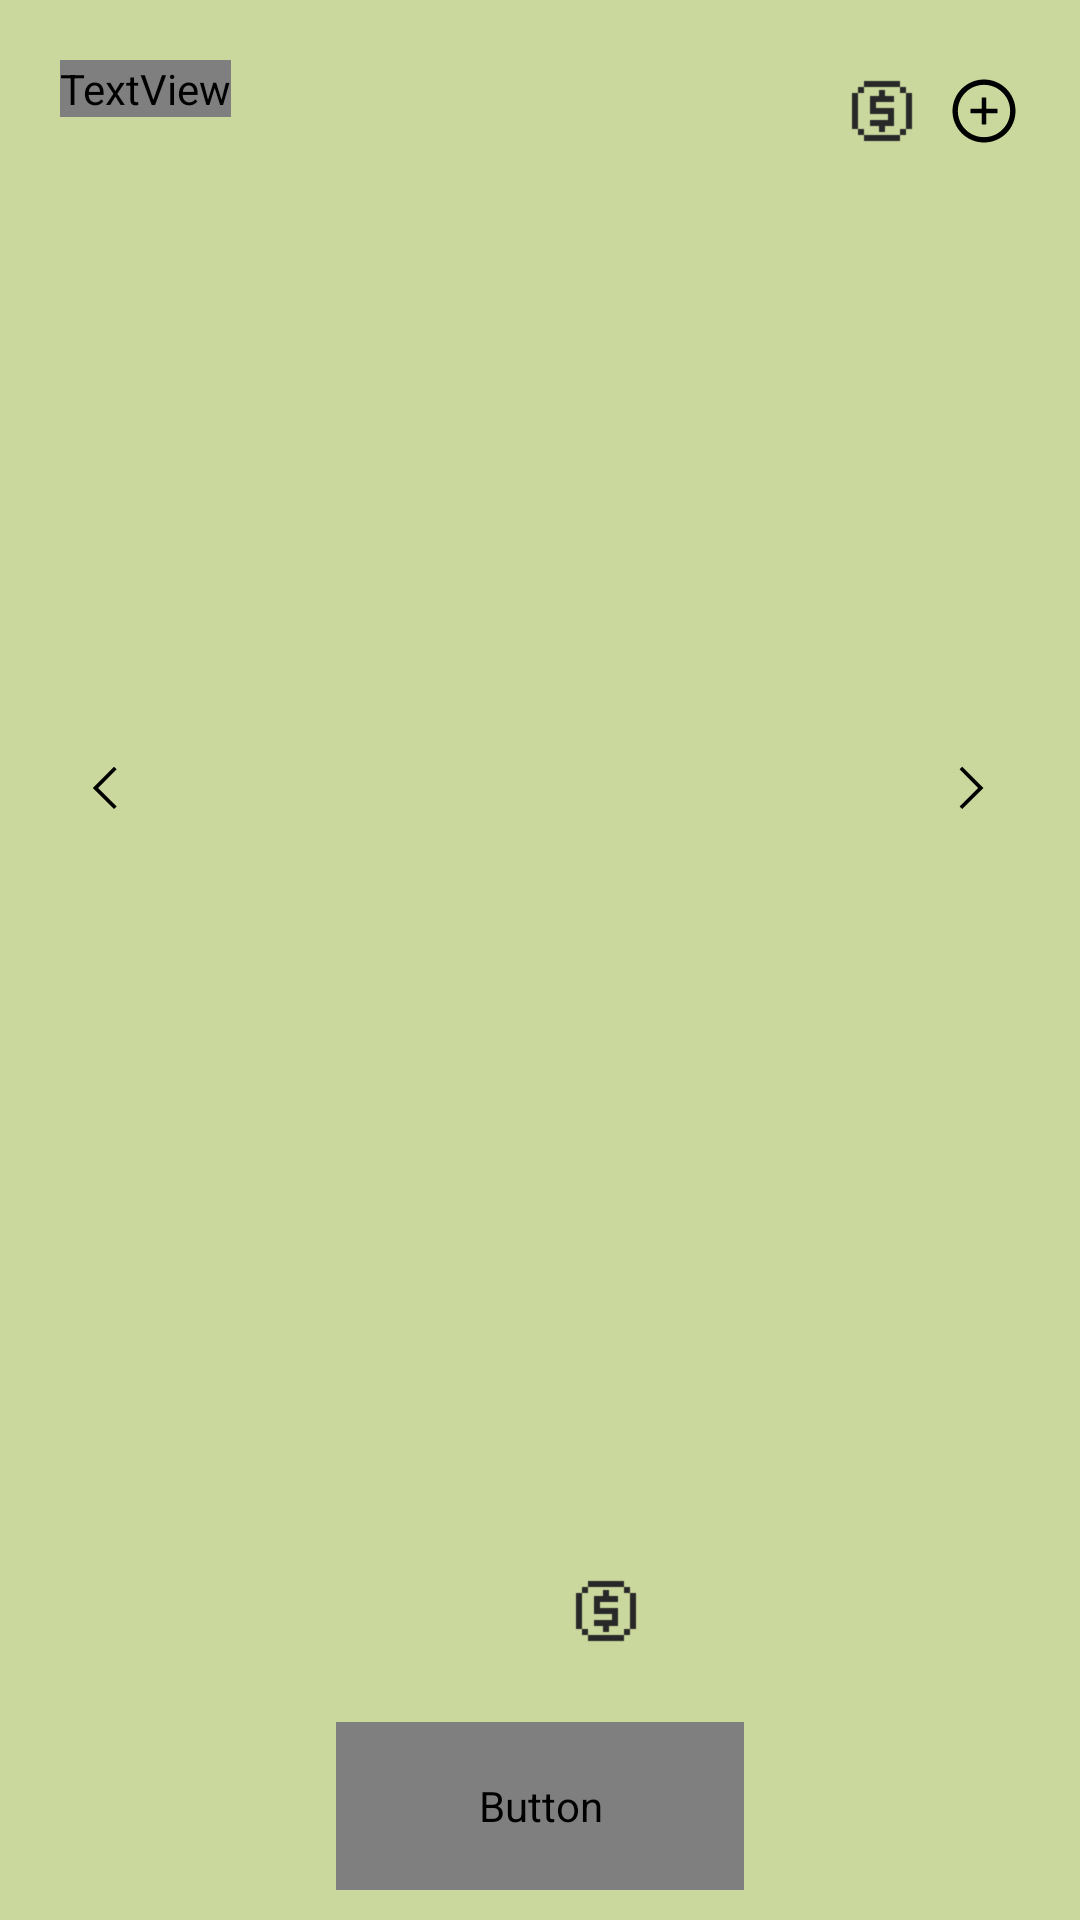

Screen size 1080 x 1920. Icon name, then its center in pixels as point (x, y):
coin: point (882, 111), point (606, 1611)
left: point (105, 788)
plus: point (984, 111)
right: point (971, 788)
